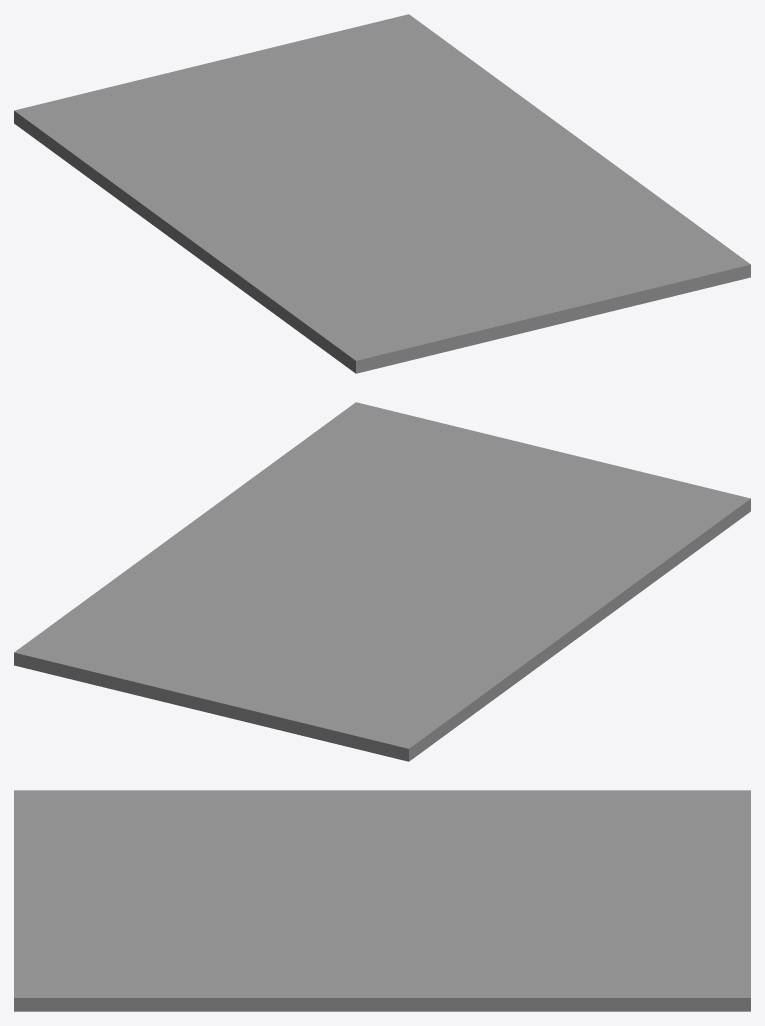
The model's file is lantai_2_ceiling_lamp.obj.
3 views of the same model, one above another, from view 1: azimuth 30°, elevation 25°; view 2: azimuth 150°, elevation 25°; view 3: azimuth 270°, elevation 25° (orthographic). The views are drawn at different scales.
Bounding box in the file's own units: 6.4 × 0.4 × 9.6.
1 material, 1 textured.
